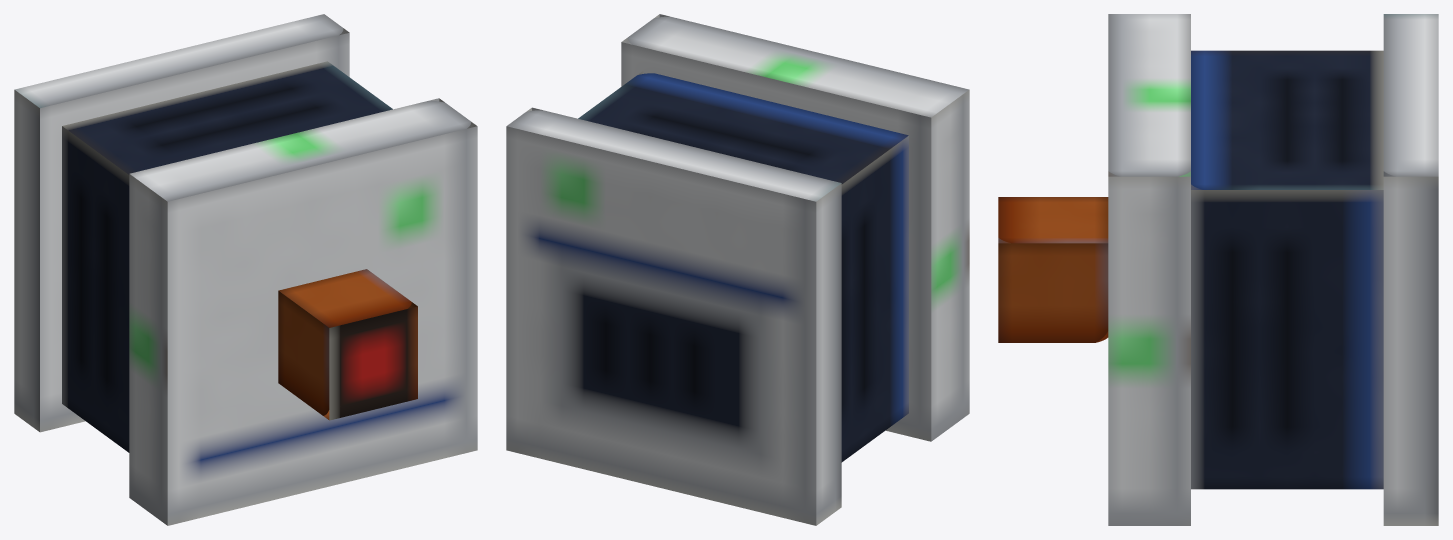
File: era4_data_importer_active.obj
3 renders of one model, left to right at view 1: azimuth 30°, elevation 25°; view 2: azimuth 150°, elevation 25°; view 3: azimuth 270°, elevation 25°, orthographic. The views are drawn at different scales.
Parts seen in each view (by area): view 1: era4_data_importer_active; view 2: era4_data_importer_active; view 3: era4_data_importer_active.
Boxes of the visible parts, x1,y1,x2,y2 form: era4_data_importer_active: (14, 14, 477, 525); era4_data_importer_active: (506, 14, 969, 525); era4_data_importer_active: (998, 14, 1438, 525).
Bounding box in the file's own units: 0.875 × 0.875 × 1.
